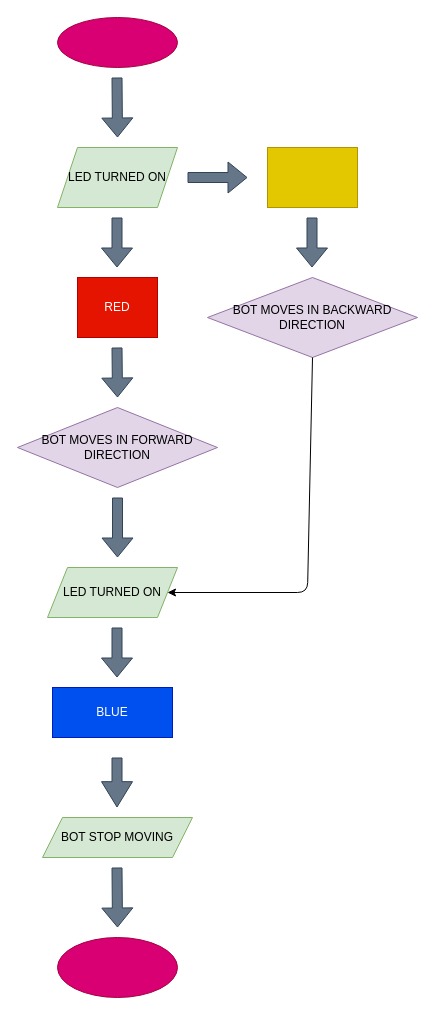
The diagram is 435 pixels wide and 1015 high, and some of its shapes have lost their labels. The shapes that lost their labels are listed below. From the top down, each one's centre as x and y in pixels, then its label:
At point 117,42: "START".
At point 312,177: "YELLOW".
At point 117,967: "STOPS".
